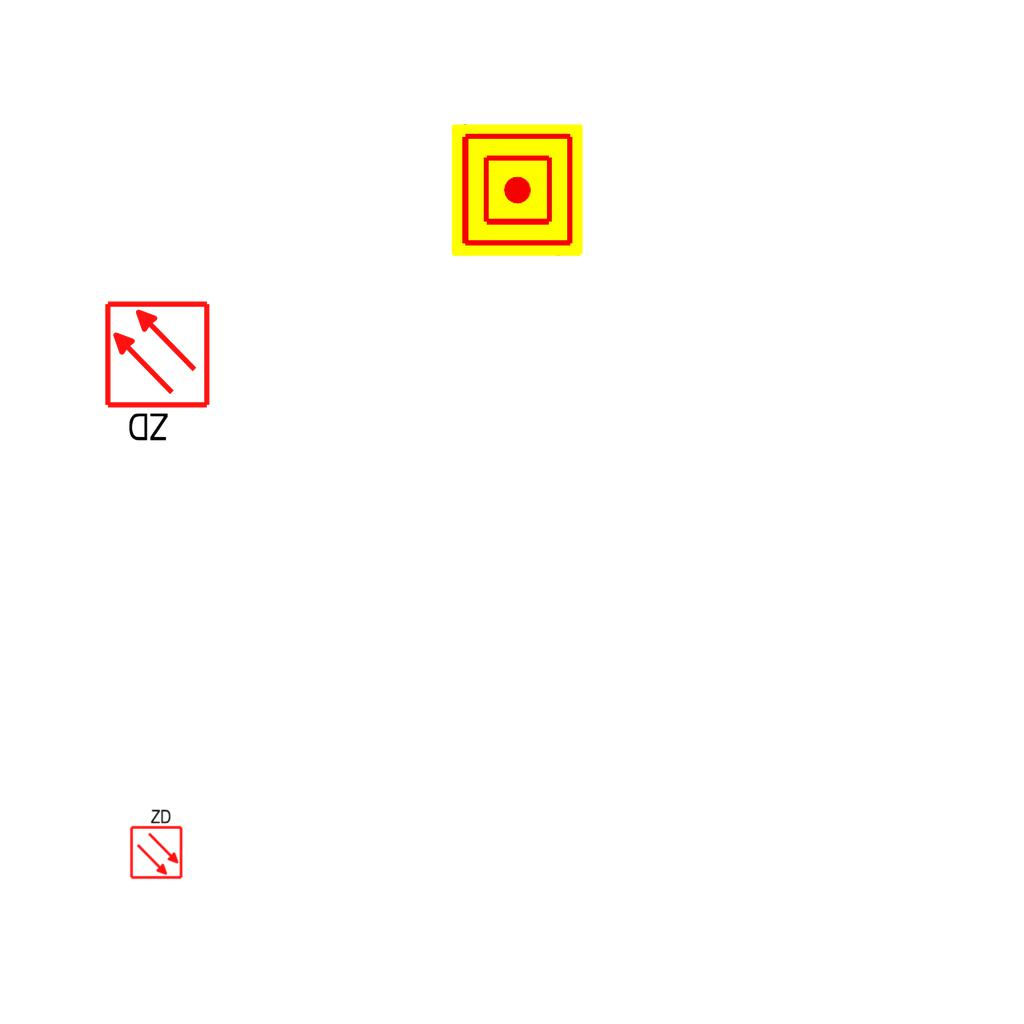NAM-Nichtautomatischer_Melder: (451, 124, 583, 256)
ZD_Melder_in_Zwischendecke_mit_Revisionsoeffnung_mind_40_x_40_cm: (102, 299, 216, 448), (127, 806, 184, 880)
